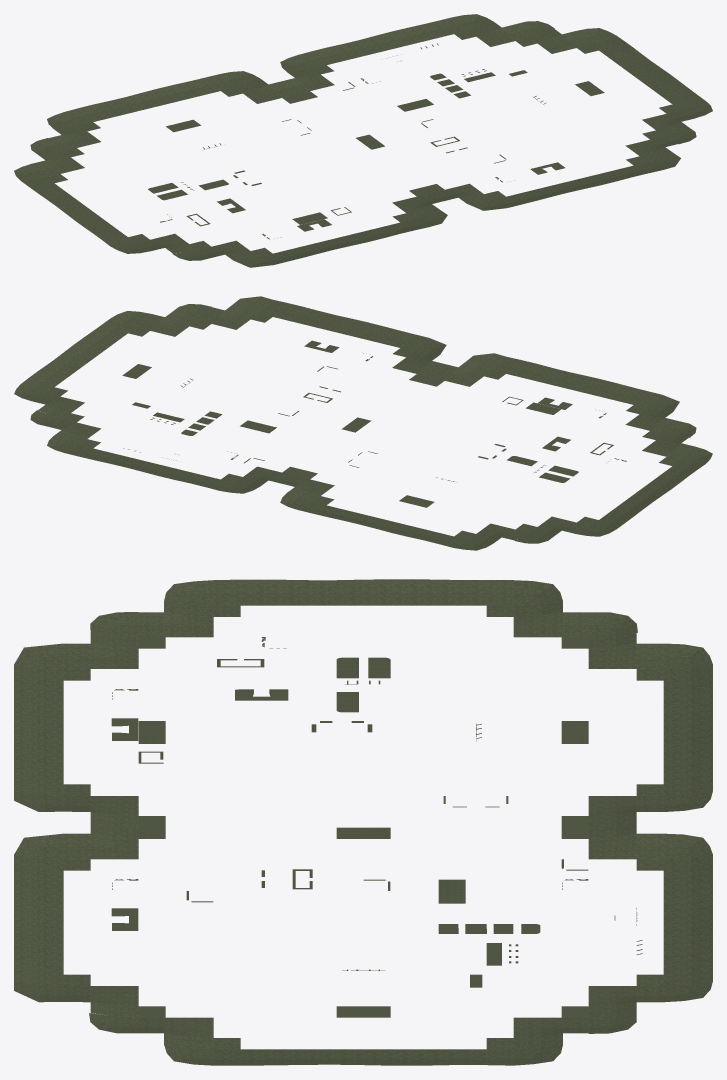
File: cesped.fbx
3 renders of one model, top to bottom at view 1: azimuth 30°, elevation 25°; view 2: azimuth 150°, elevation 25°; view 3: azimuth 270°, elevation 25°, orthographic. The views are drawn at different scales.
Visible parts, largest first — view 1: cesped; view 2: cesped; view 3: cesped.
Boxes of the visible parts, box(x1,y1,x2,y2) form: cesped: box(14, 14, 712, 267); cesped: box(14, 296, 712, 550); cesped: box(14, 579, 712, 1065).
Bounding box in the file's own units: 91920 × 504 × 55929.
